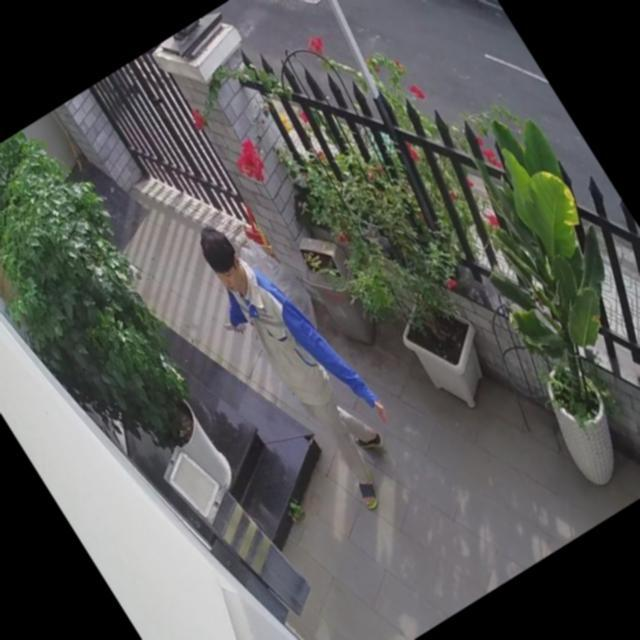person: (179, 197, 426, 519)
